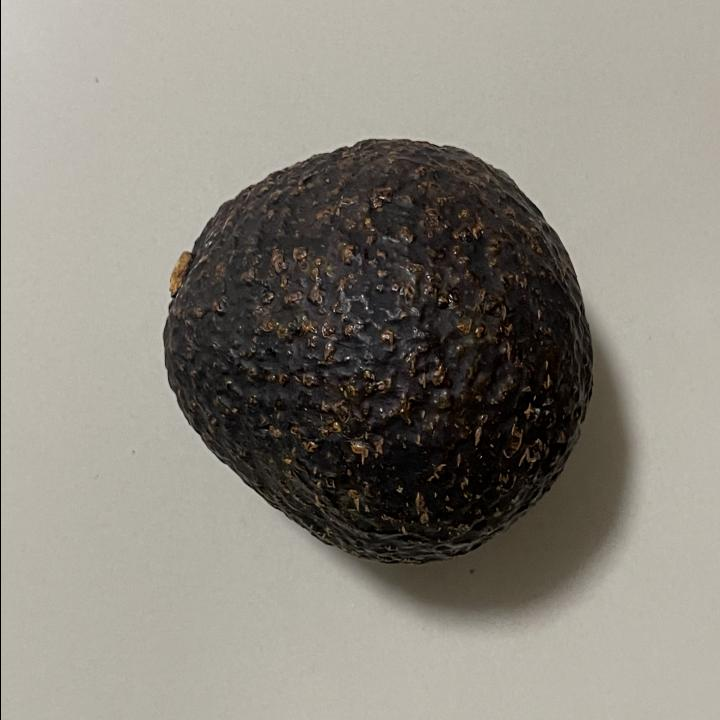Level3: (152, 126, 600, 574)
